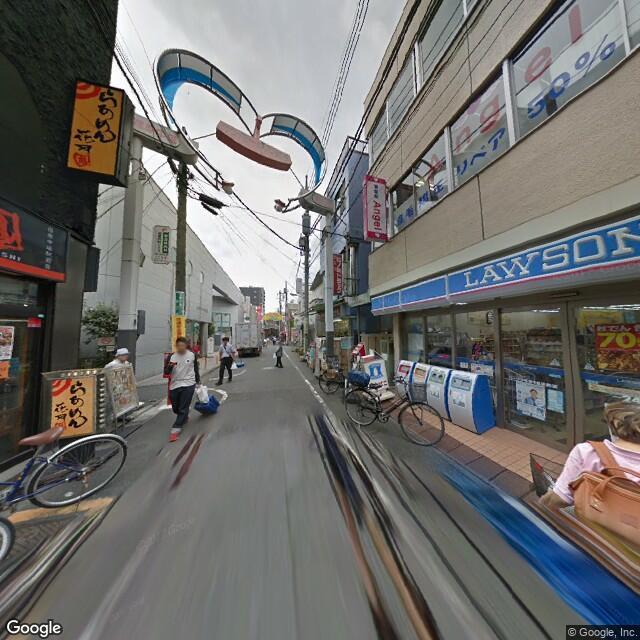lawson: (370, 210, 639, 316)
